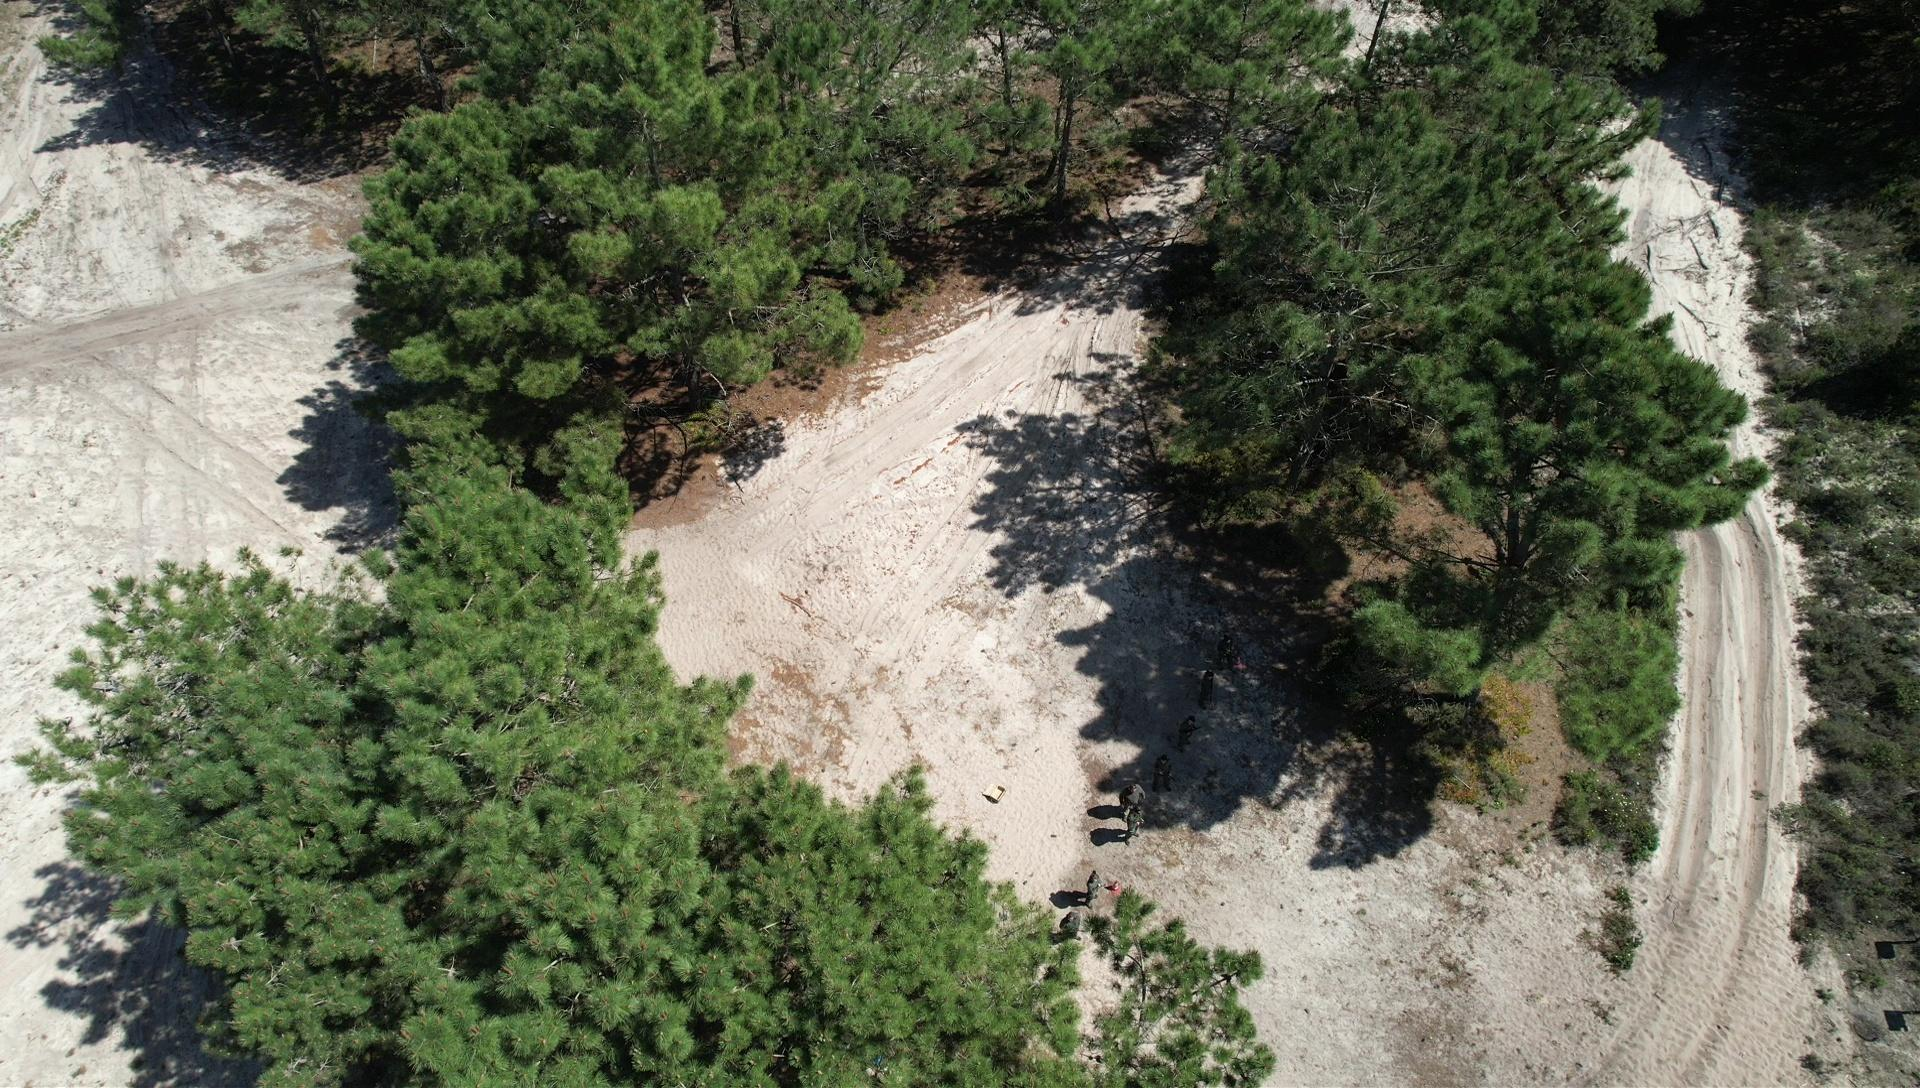Soldier: (1195, 663, 1226, 706), (1122, 803, 1150, 851), (1150, 750, 1175, 798), (1120, 783, 1151, 820), (1174, 712, 1197, 756), (1058, 909, 1088, 939), (1085, 870, 1109, 907), (1215, 634, 1240, 667)
